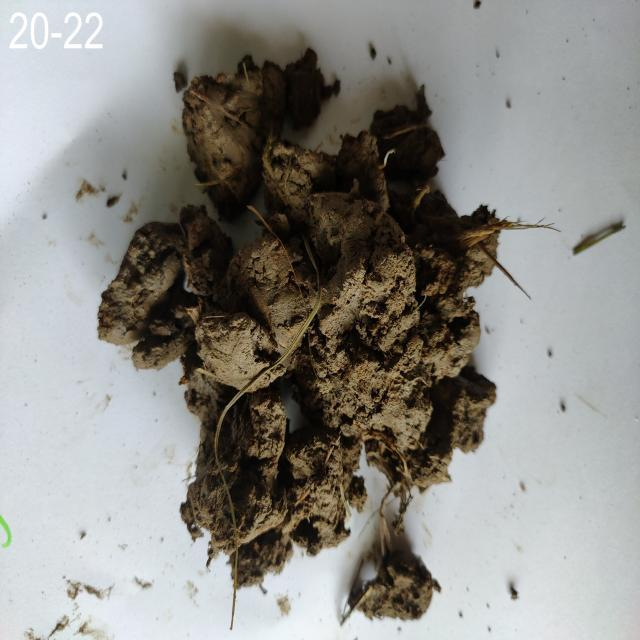soil: (243, 200, 414, 480)
